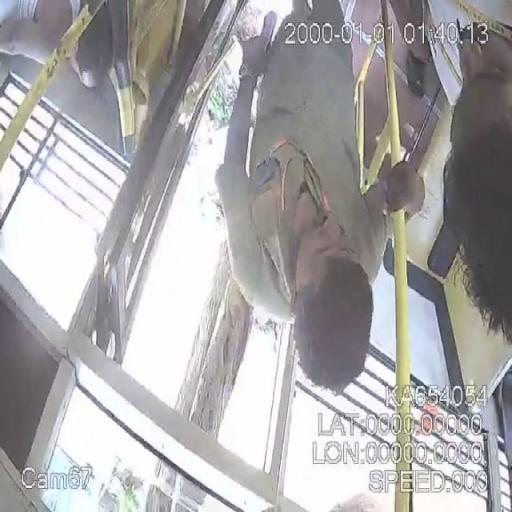persona: (214, 1, 428, 394), (423, 0, 511, 346)
